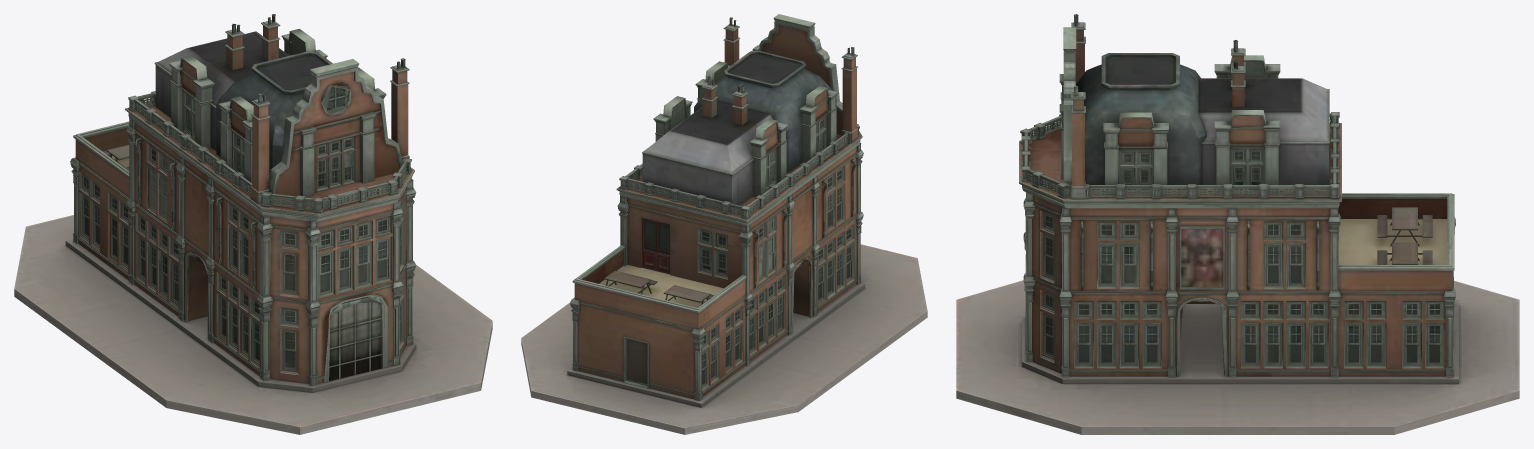
File: old_building_2.glb
3 views of the same model, side by side, from view 1: azimuth 30°, elevation 25°; view 2: azimuth 150°, elevation 25°; view 3: azimuth 270°, elevation 25° (orthographic). The views are drawn at different scales.
Visible parts, largest first — view 1: Cylinder.020_Material_0; view 2: Cylinder.020_Material_0; view 3: Cylinder.020_Material_0.
Boxes of the visible parts, box(x1,y1,x2,y2) form: Cylinder.020_Material_0: box(14, 14, 492, 434); Cylinder.020_Material_0: box(521, 14, 927, 434); Cylinder.020_Material_0: box(956, 14, 1519, 434).
Size of the model in its own units: 13.29 by 11.91 by 19.33.
Materials: 1 (1 with a texture image).
